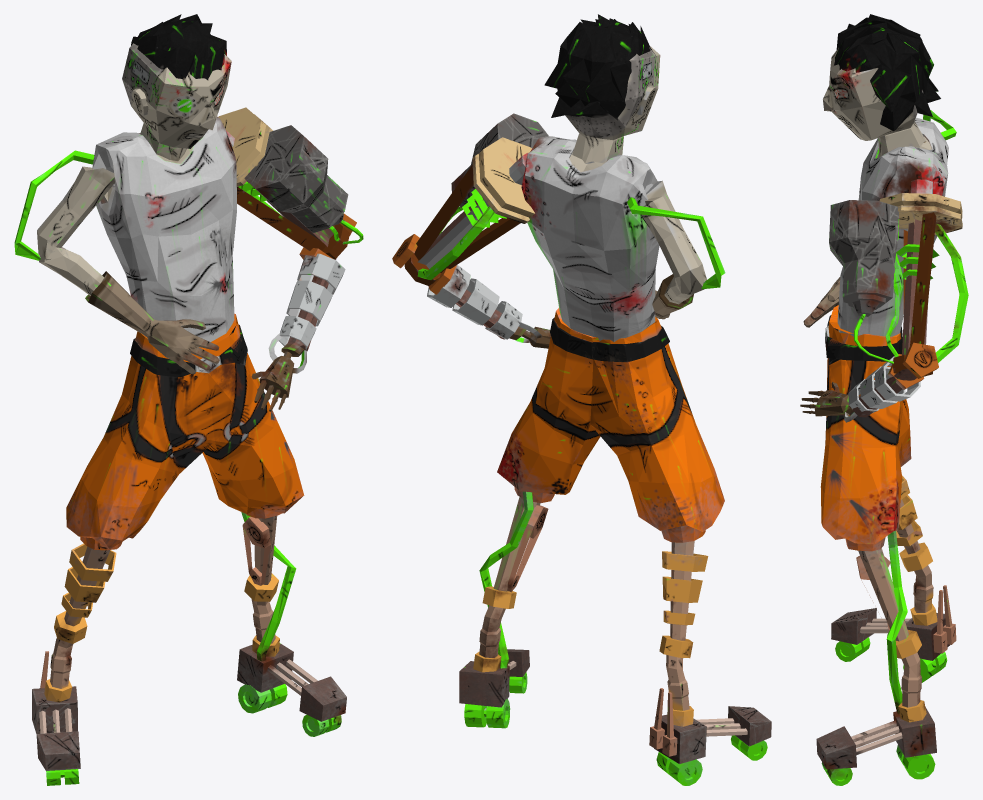
The model's file is CyborgFINALAnimation_000052.obj.
The picture shows the model from 3 angles, left to right: view 1: azimuth 30°, elevation 25°; view 2: azimuth 150°, elevation 25°; view 3: azimuth 270°, elevation 25°; orthographic projection. The views are drawn at different scales.
Visible parts, largest first — view 1: CyborgMesh_Cube.002; view 2: CyborgMesh_Cube.002; view 3: CyborgMesh_Cube.002.
Part boxes in pixels (<box>): CyborgMesh_Cube.002: <box>14,14,363,785</box>; CyborgMesh_Cube.002: <box>392,14,771,785</box>; CyborgMesh_Cube.002: <box>800,14,968,785</box>.
Size of the model in its own units: 4.77 by 9.57 by 2.07.
